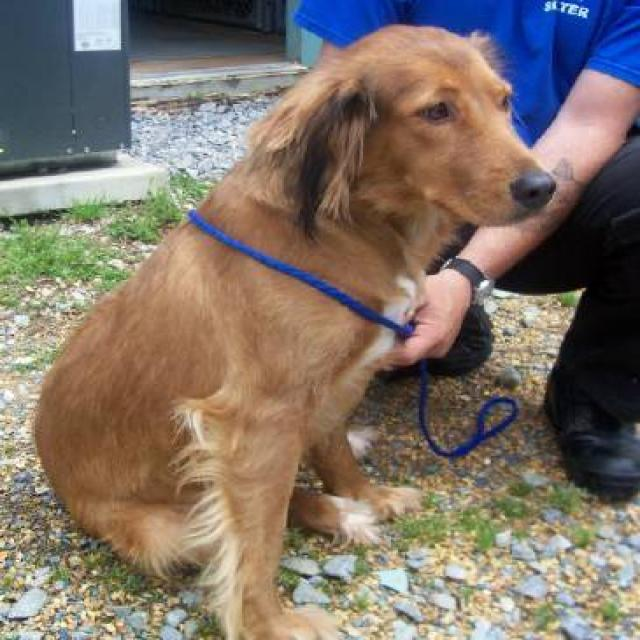dog: (30, 22, 556, 638)
